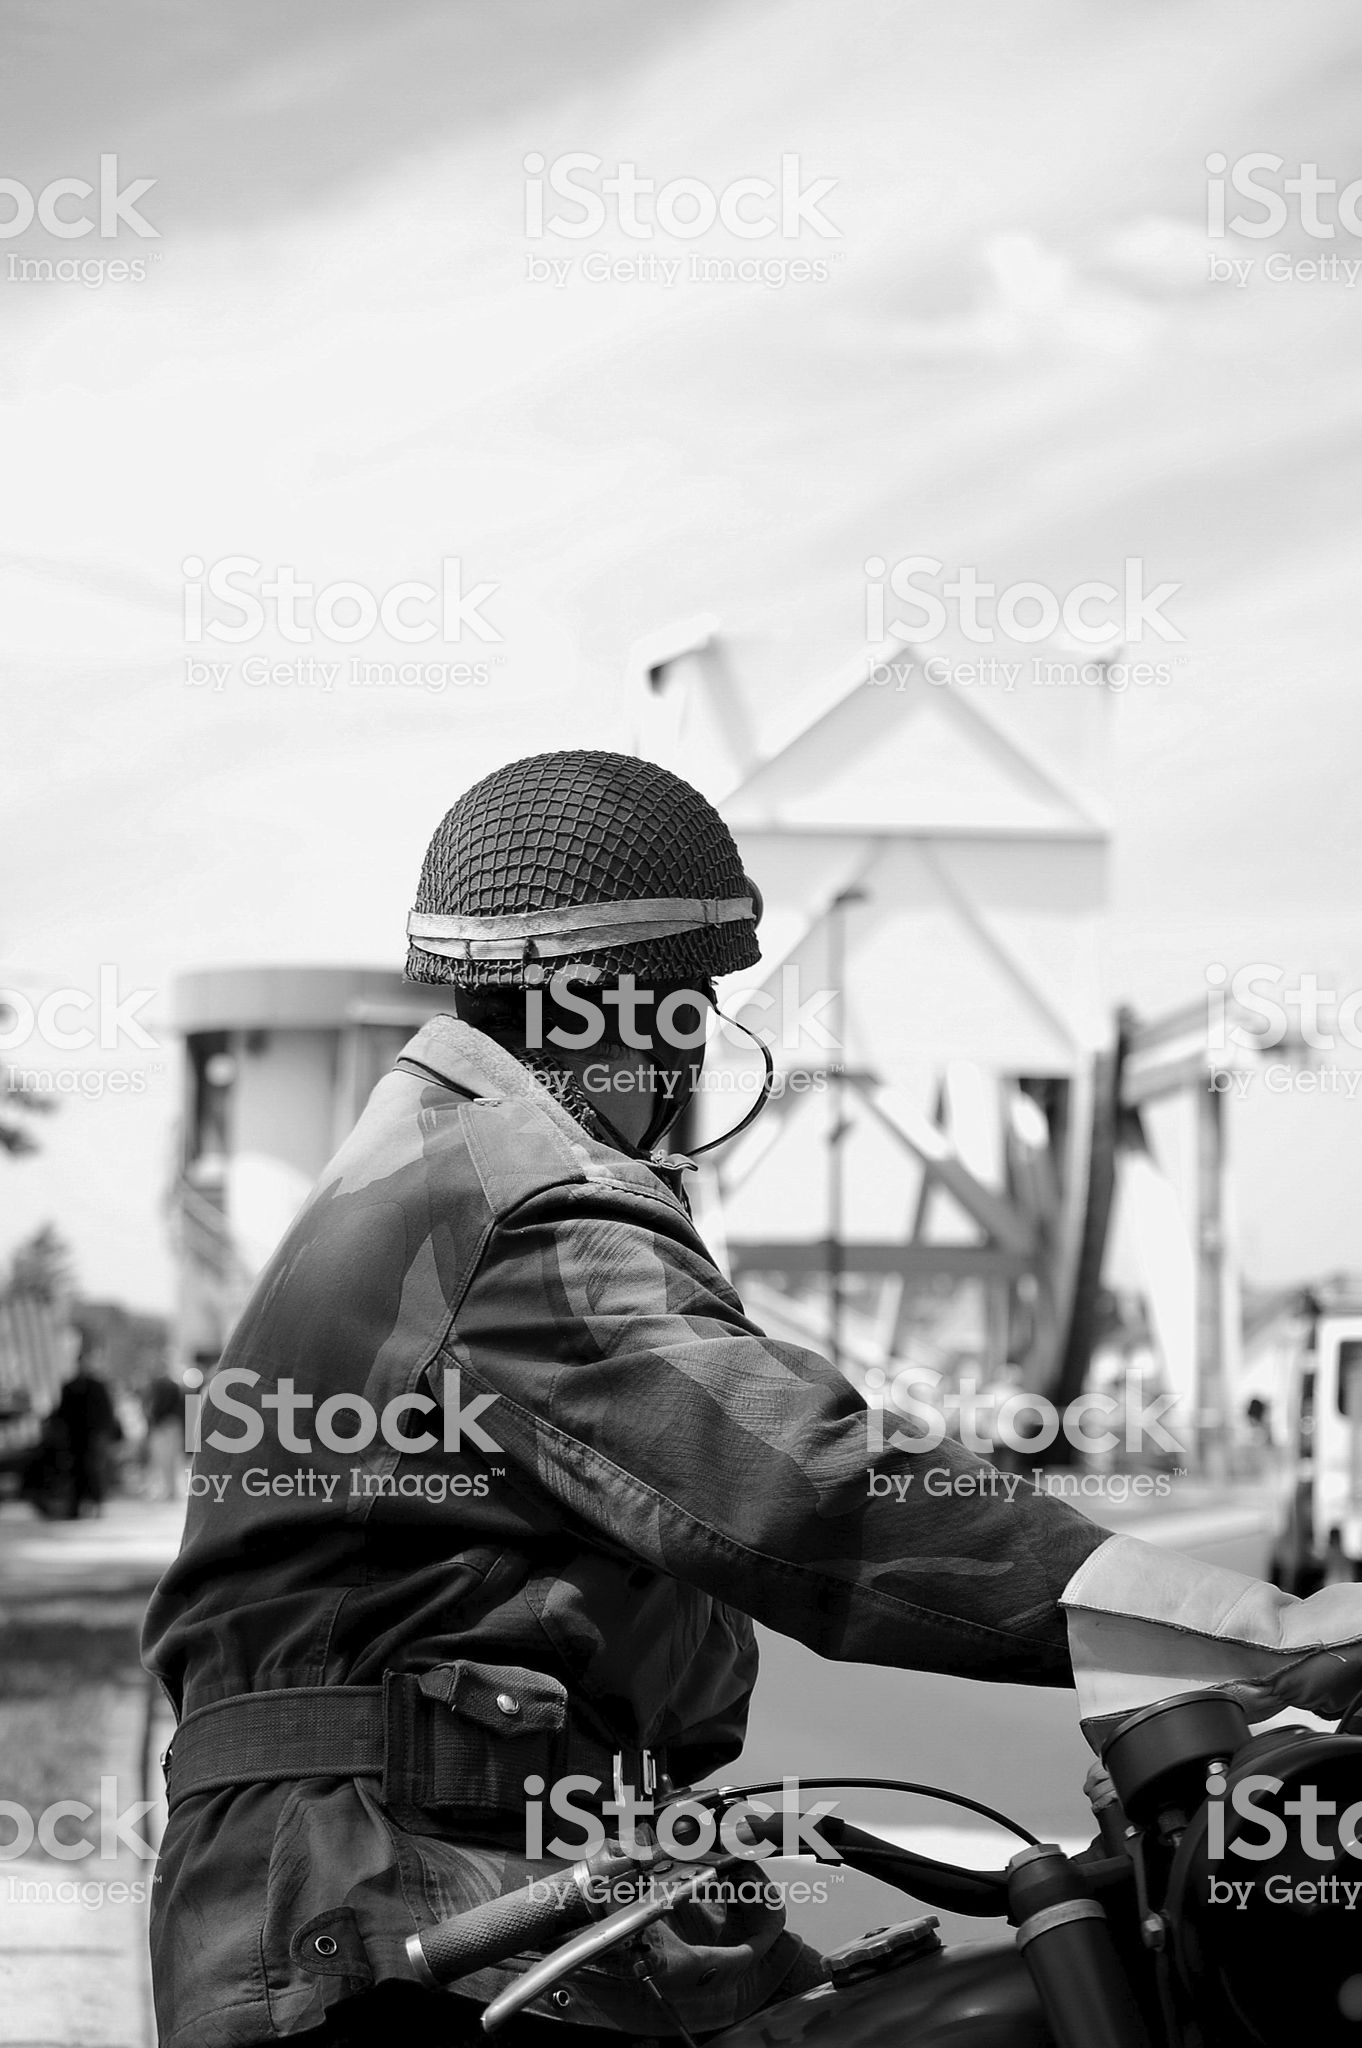helmet: (371, 738, 777, 1006)
